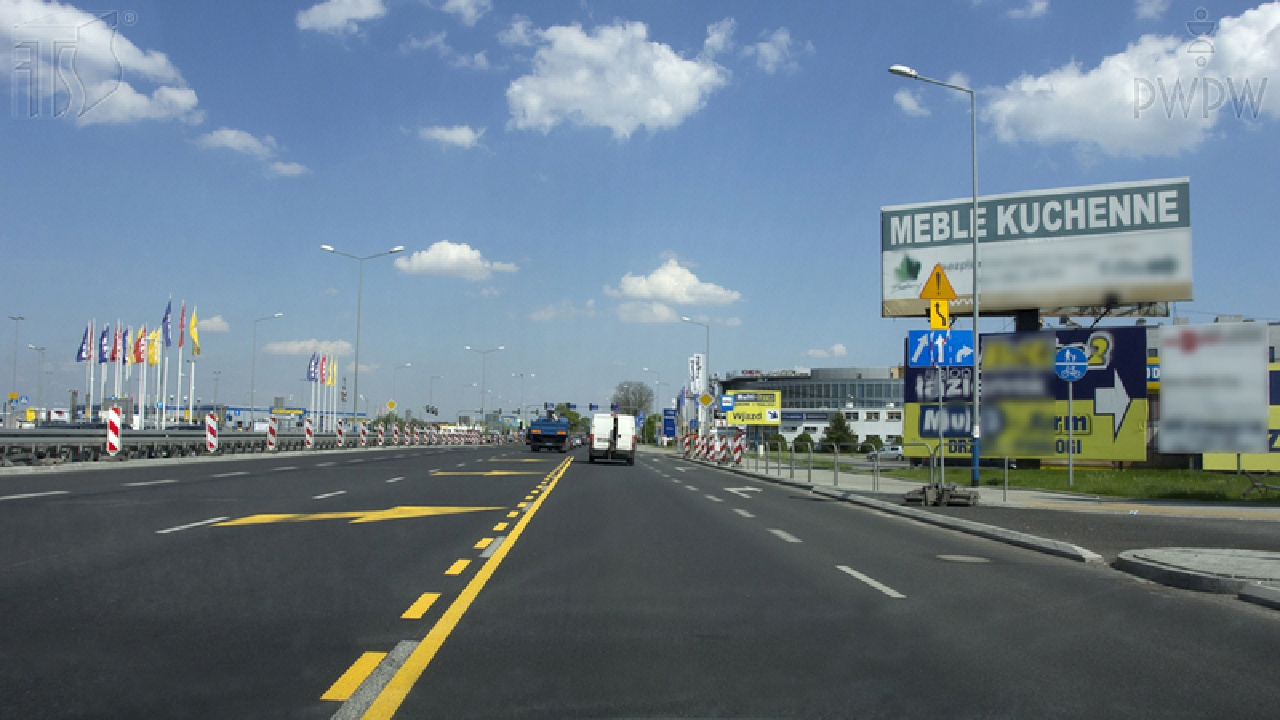A30: (919, 263, 957, 300)
